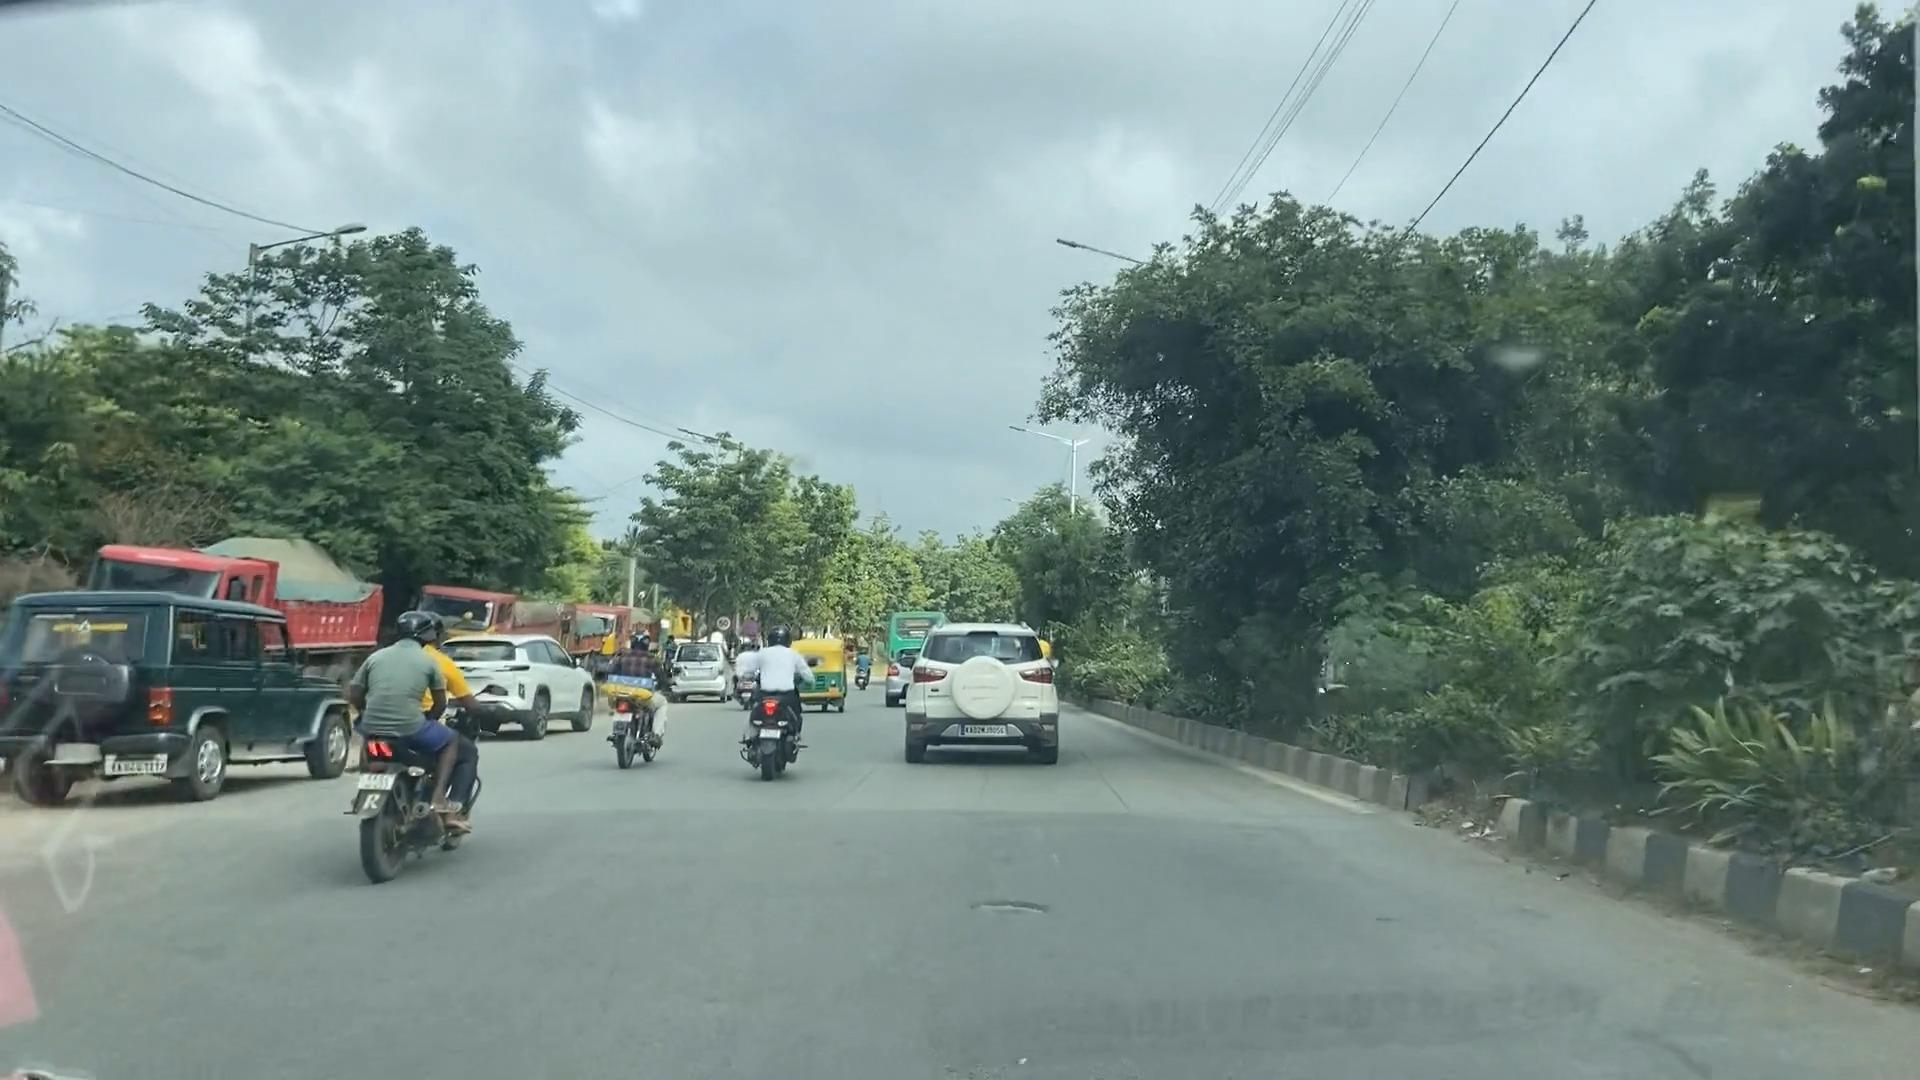HMV: (0, 571, 363, 825)
LMV: (324, 589, 495, 905), (707, 551, 819, 825), (902, 616, 1068, 775), (589, 620, 673, 761)
RoadDamages: (935, 861, 1083, 968)
